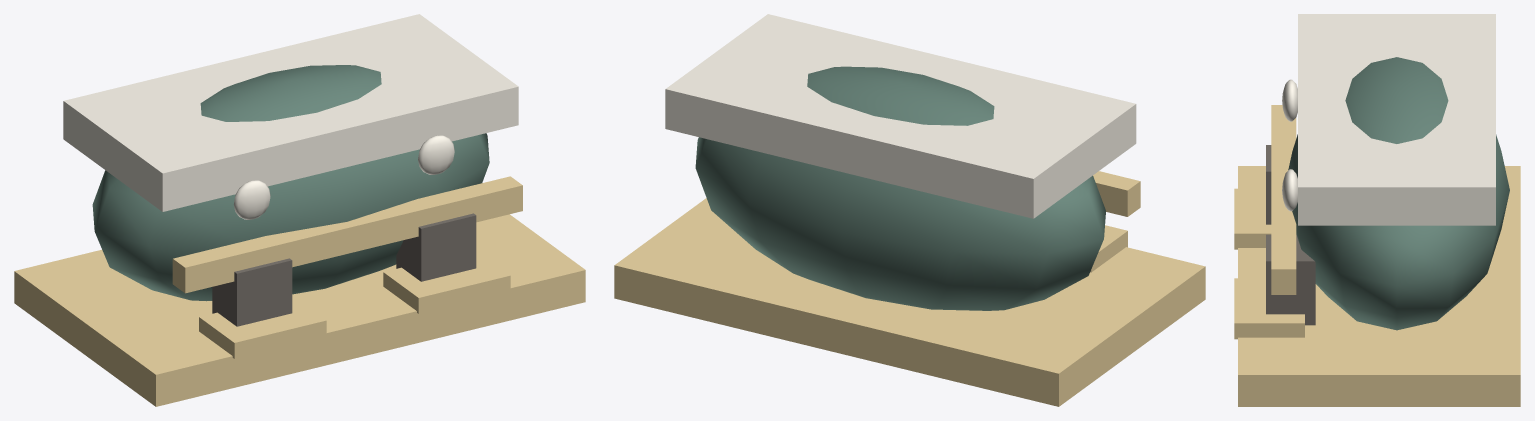
The model's file is house-machine.glb.
The picture shows the model from 3 angles, left to right: view 1: azimuth 30°, elevation 25°; view 2: azimuth 150°, elevation 25°; view 3: azimuth 270°, elevation 25°; orthographic projection. The views are drawn at different scales.
Size of the model in its own units: 1.4 by 0.67 by 0.81.
